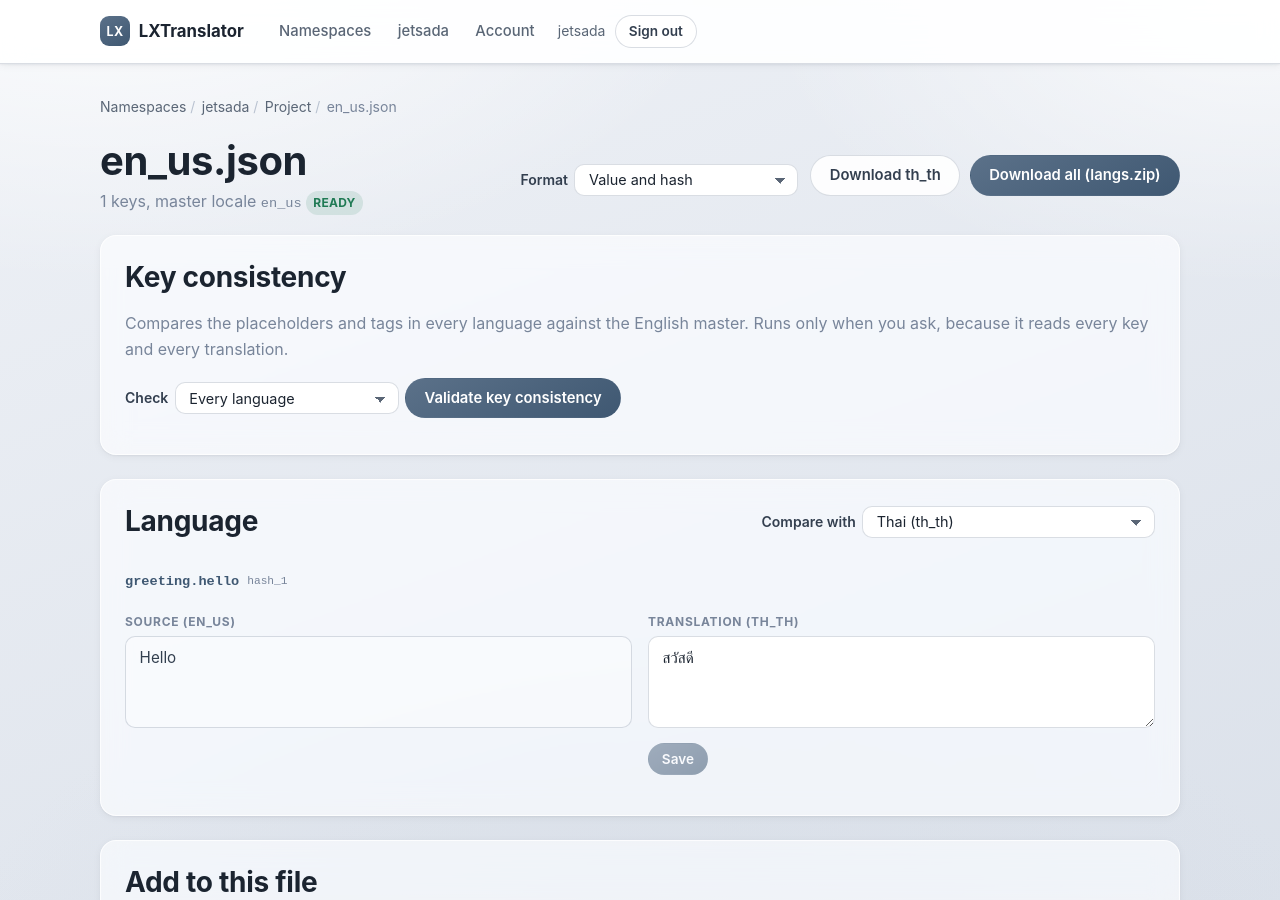
it: export formats › choosing one on the editor › warns that the flat format carries no fingerprint either
Select "Flat key and value" in the dropdown labelled "Format" at {"x": 686, "y": 180}, box [574,164,798,196]
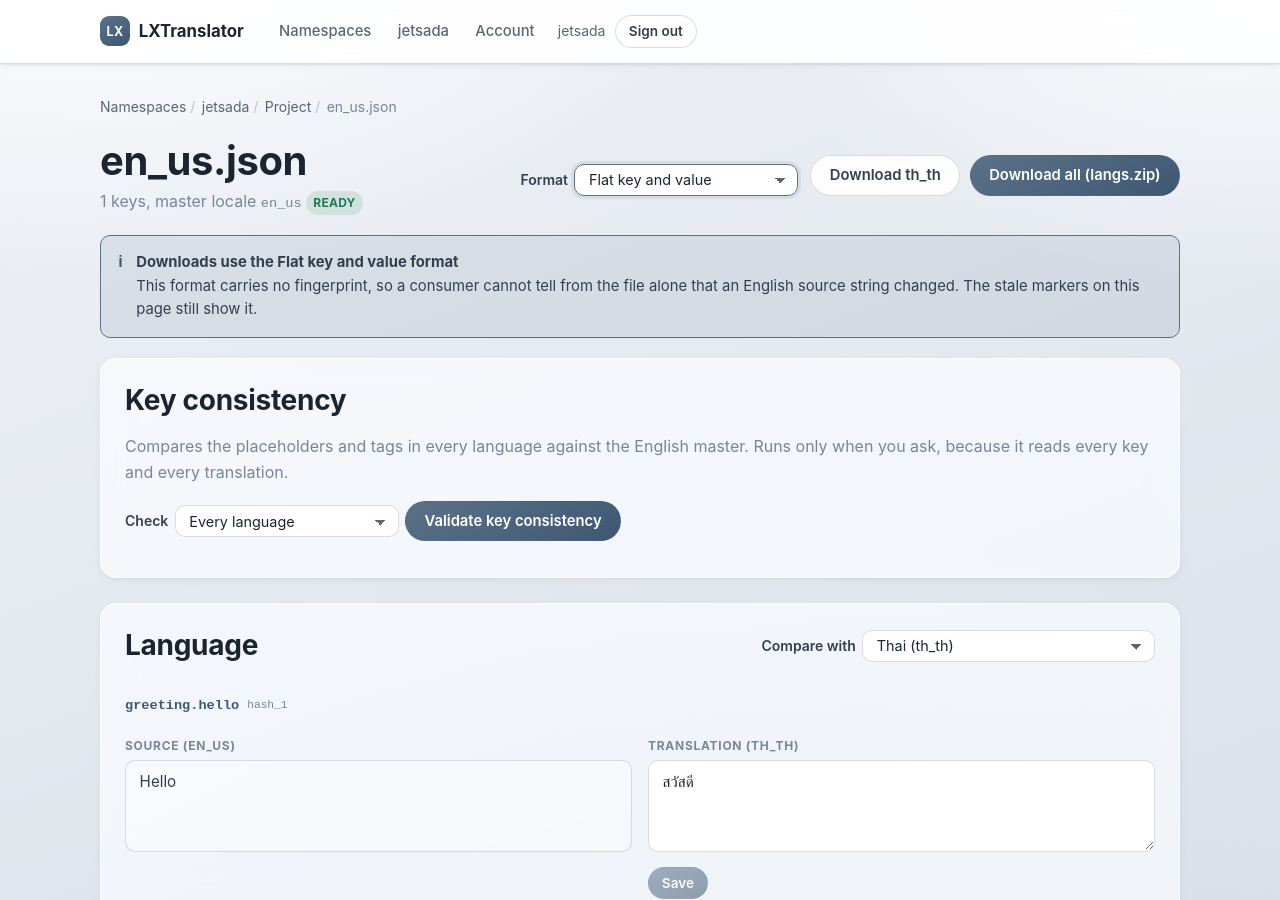
Expected: the text "carries no fingerprint" is shown, [136,277,1140,318]
